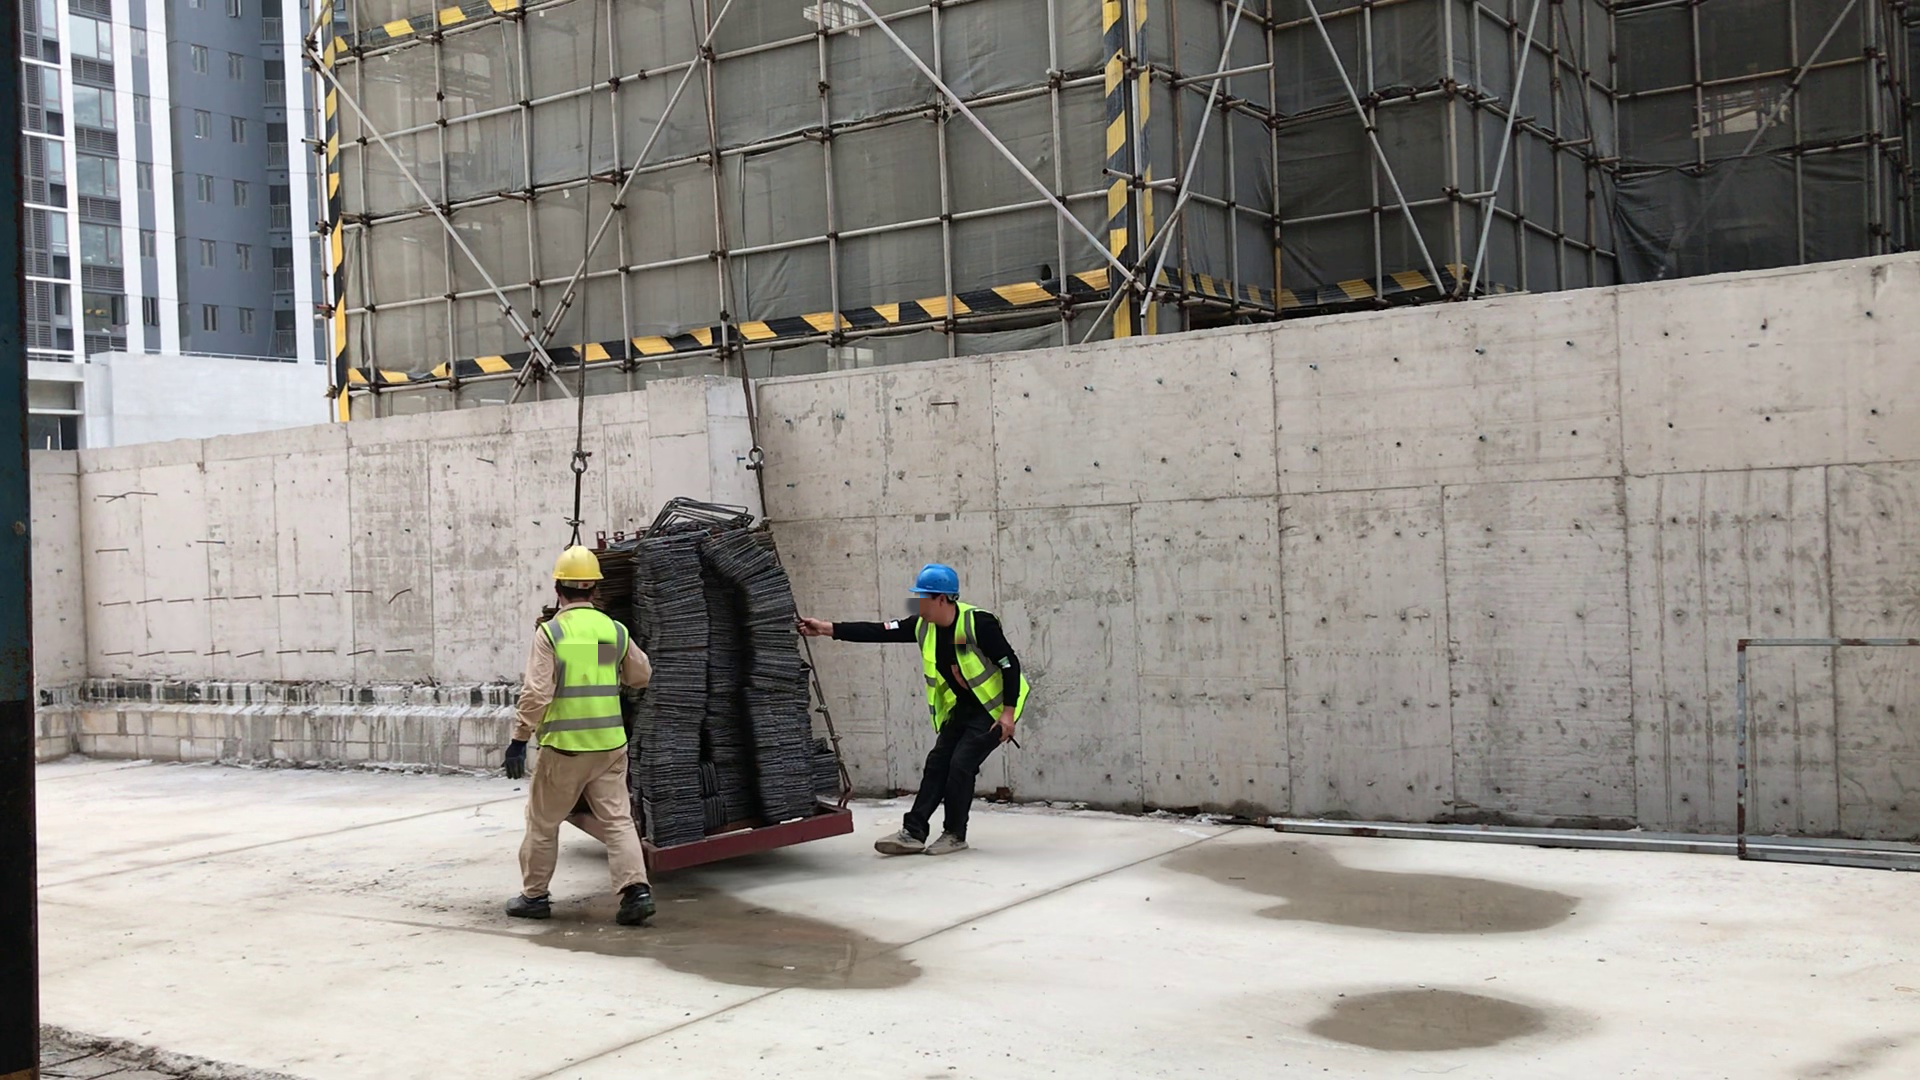helmet: (902, 550, 973, 605), (551, 539, 605, 593)
person: (818, 554, 1049, 865), (500, 544, 665, 921)
vest: (524, 607, 643, 768), (899, 608, 1035, 728)
